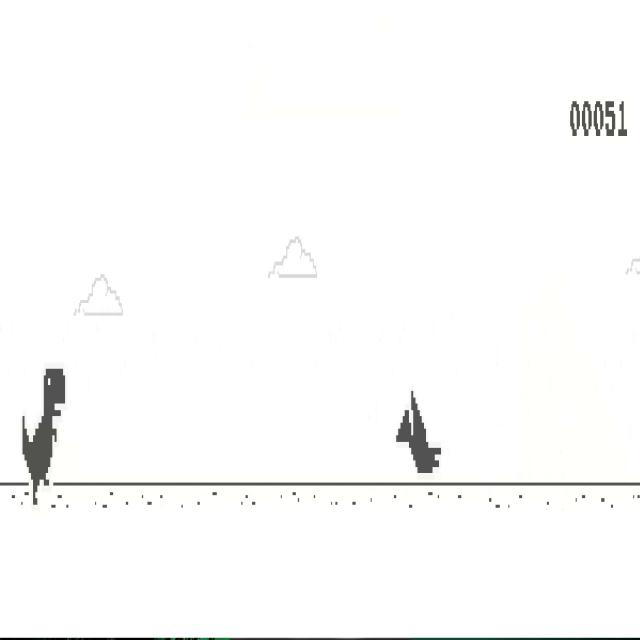dino: (21, 366, 66, 506)
ptero: (395, 388, 441, 474)
